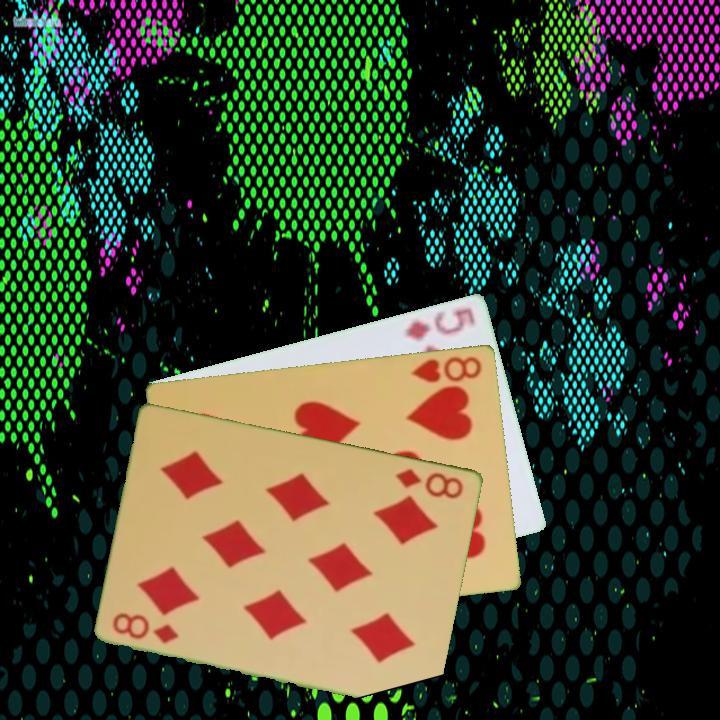5d: (402, 304, 479, 343)
8d: (109, 609, 182, 646), (392, 465, 467, 501)
8h: (408, 352, 485, 385)
